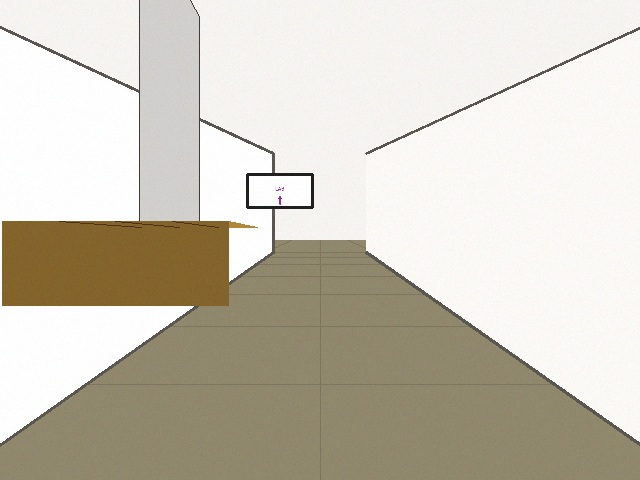directional_sign: (247, 174, 312, 207)
pallet: (2, 221, 257, 305)
